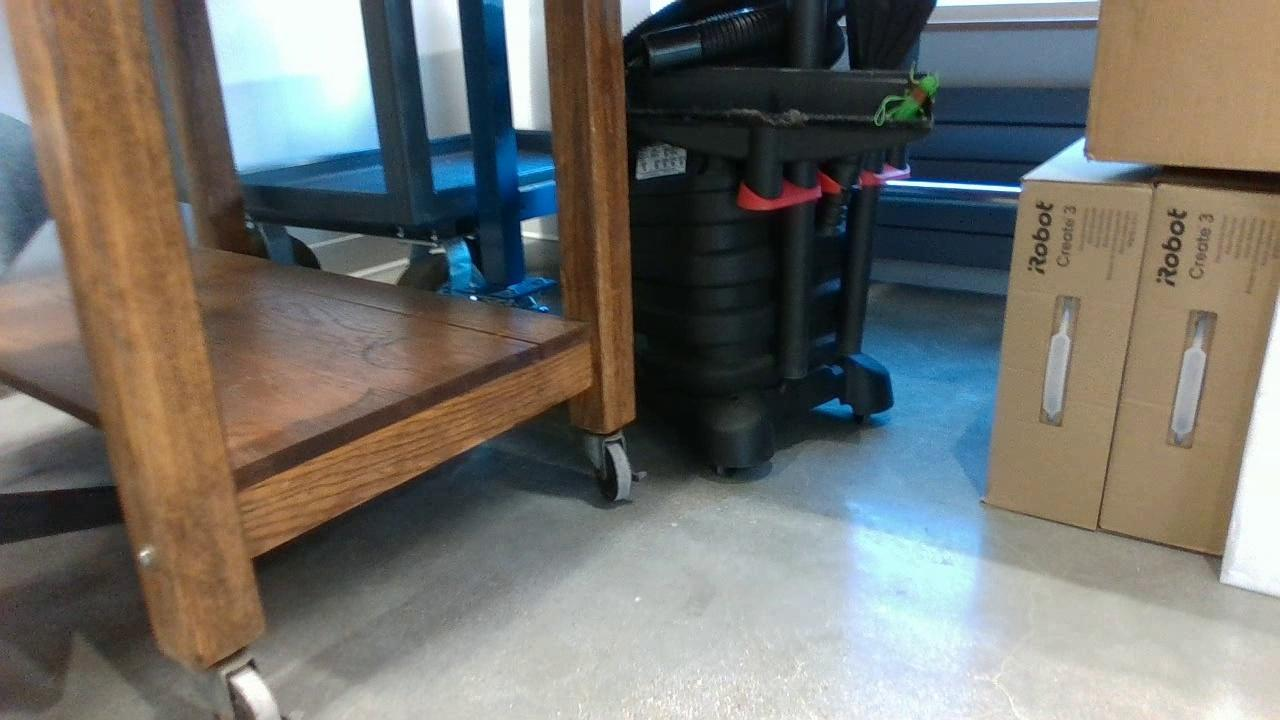grasshopper: (875, 59, 940, 124)
